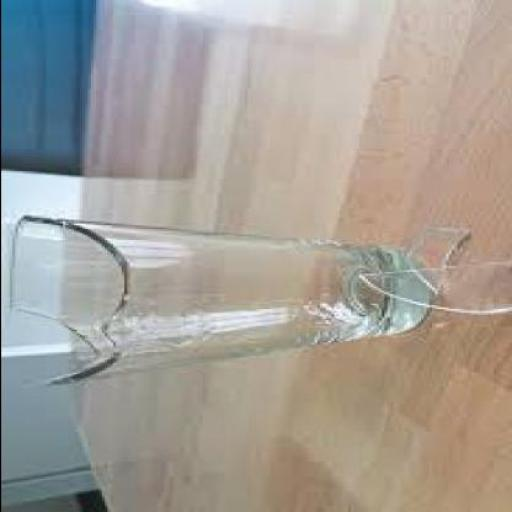glass: (6, 214, 432, 384), (355, 258, 509, 316), (403, 224, 473, 290)
